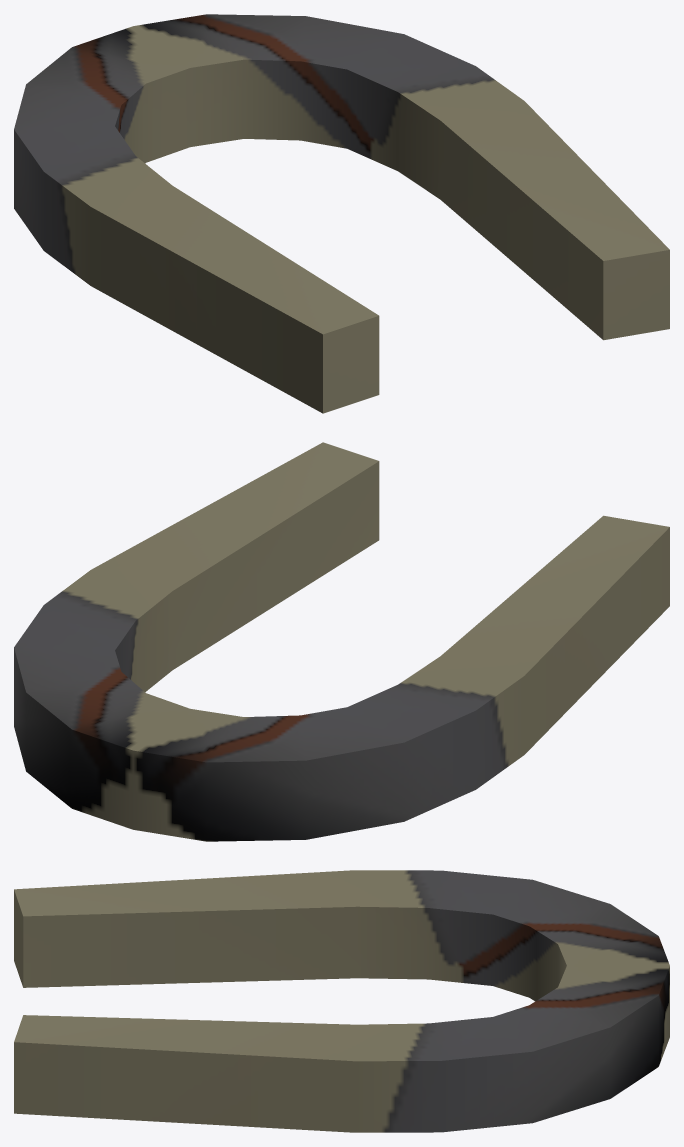
File: Magnet01.fbx
3 views of the same model, one above another, from view 1: azimuth 30°, elevation 25°; view 2: azimuth 150°, elevation 25°; view 3: azimuth 270°, elevation 25° (orthographic). The views are drawn at different scales.
Visible parts, largest first — view 1: Magnet; view 2: Magnet; view 3: Magnet.
Part boxes in pixels (x1,y1,x2,y2): Magnet: (14,14,669,413); Magnet: (14,442,669,841); Magnet: (14,870,669,1132).
Bounding box in the file's own units: 2.78 × 0.4843 × 4.03.
